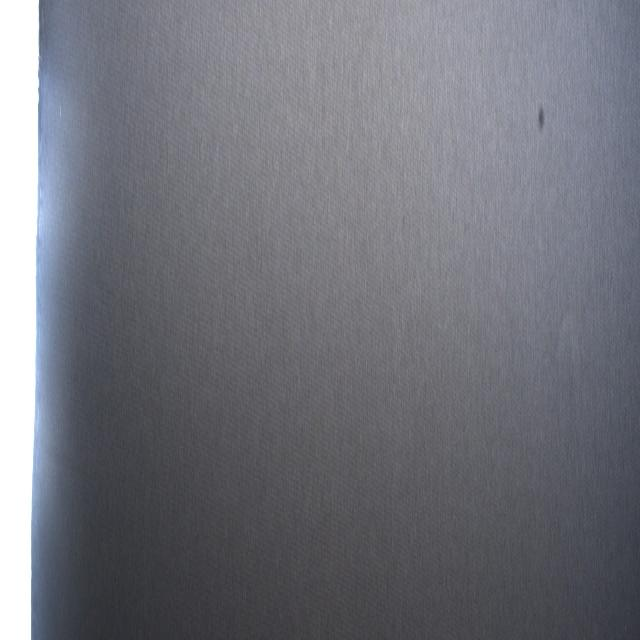crease: (39, 427, 106, 524)
whiteDefect: (553, 307, 587, 453)
